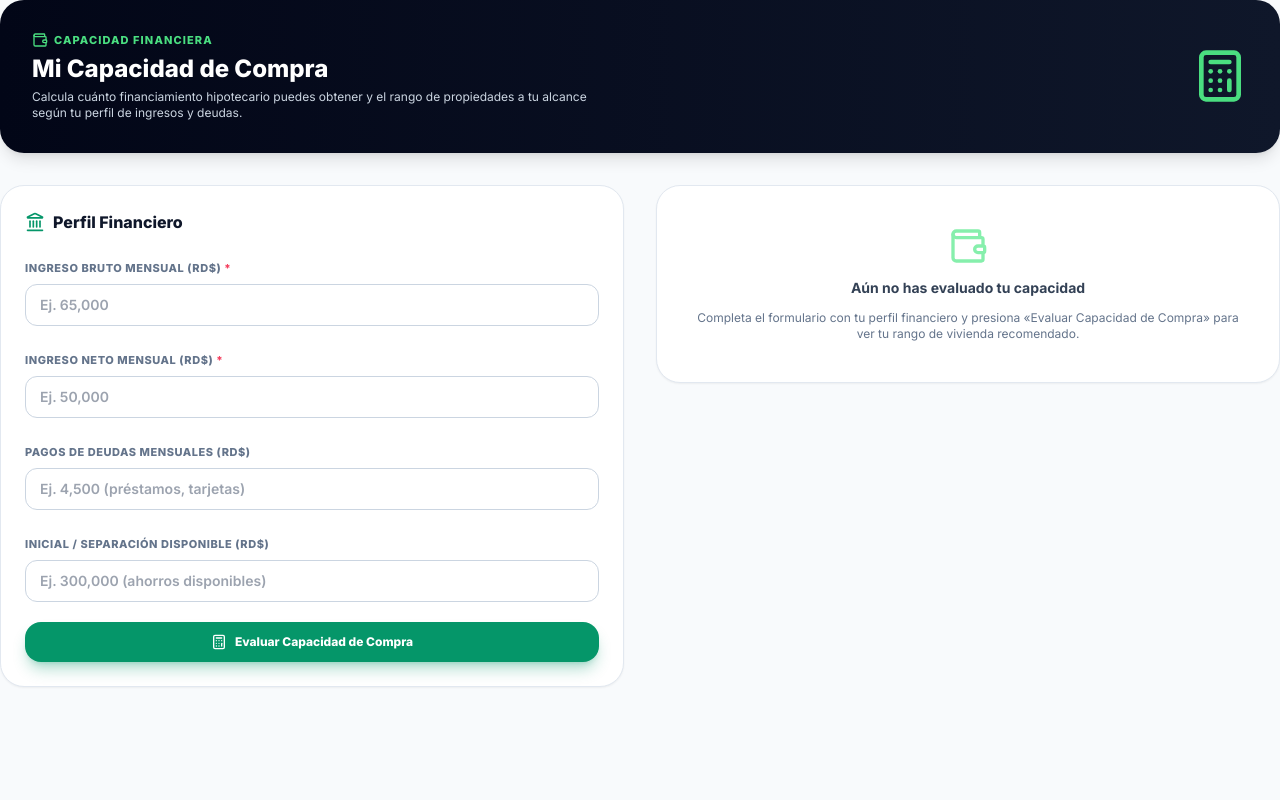
Test: BuyAbilityPage Component › formats input values with thousands separators in real time and ignores negative signs
Expected: the heading "Mi Capacidad de Compra" is shown, [32,54,328,82]
Note: Typing -50000 should format to 50,000 without negative sign
Type "-50000" into the field with placeholder "Ej. 65,000". click: (312, 304)
box: [25,284,599,326]
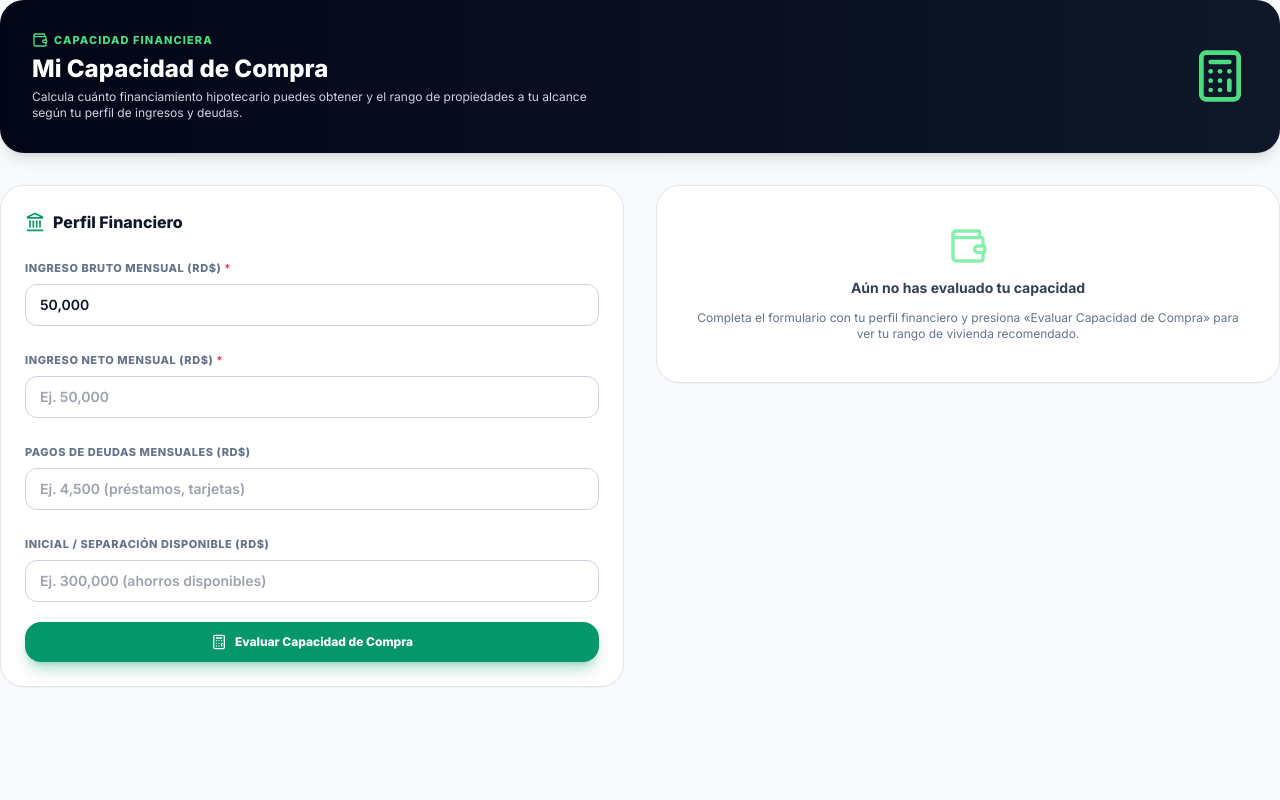
Expected: the field with placeholder "Ej. 65,000" holds "50,000"
Replace the text in the field with placeholder "Ej. 65,000" with "1500000". click: (312, 304)
box: [25,284,599,326]
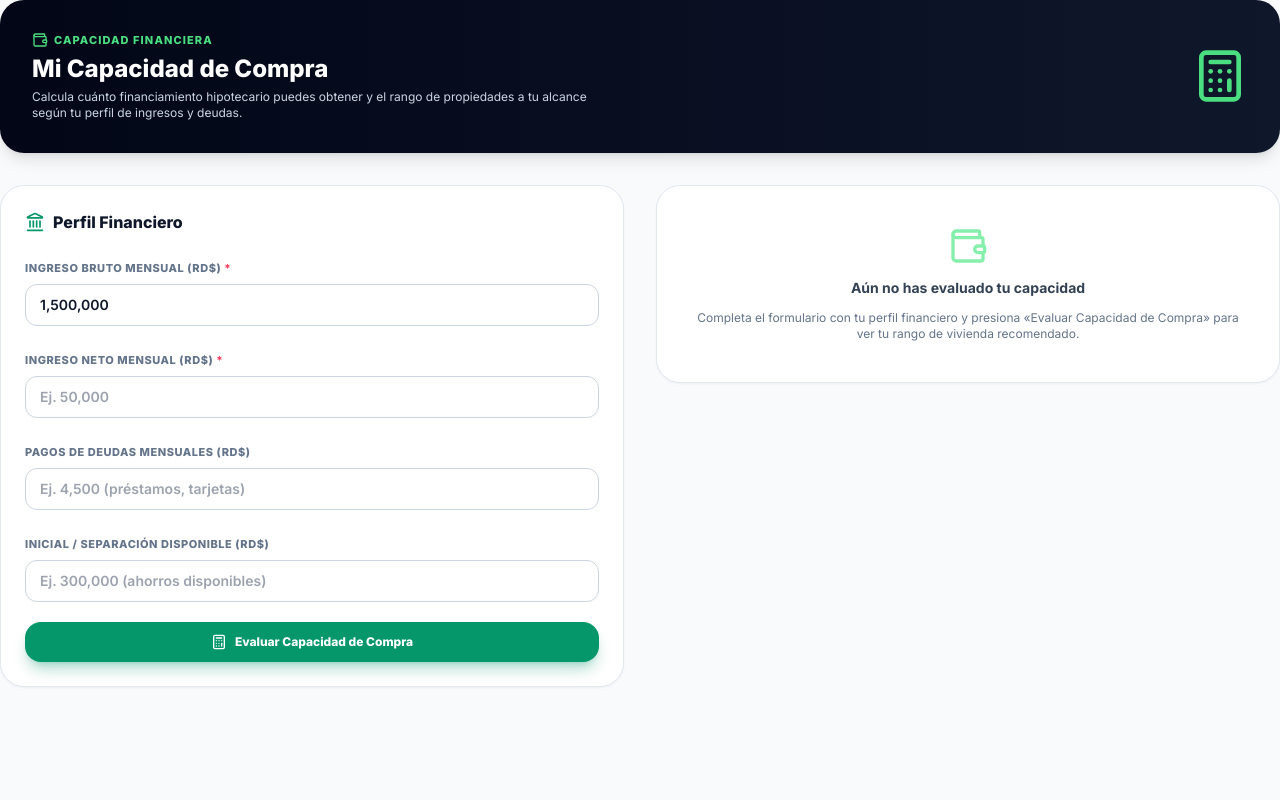
Expected: the field with placeholder "Ej. 65,000" holds "1,500,000", [25,284,599,326]
